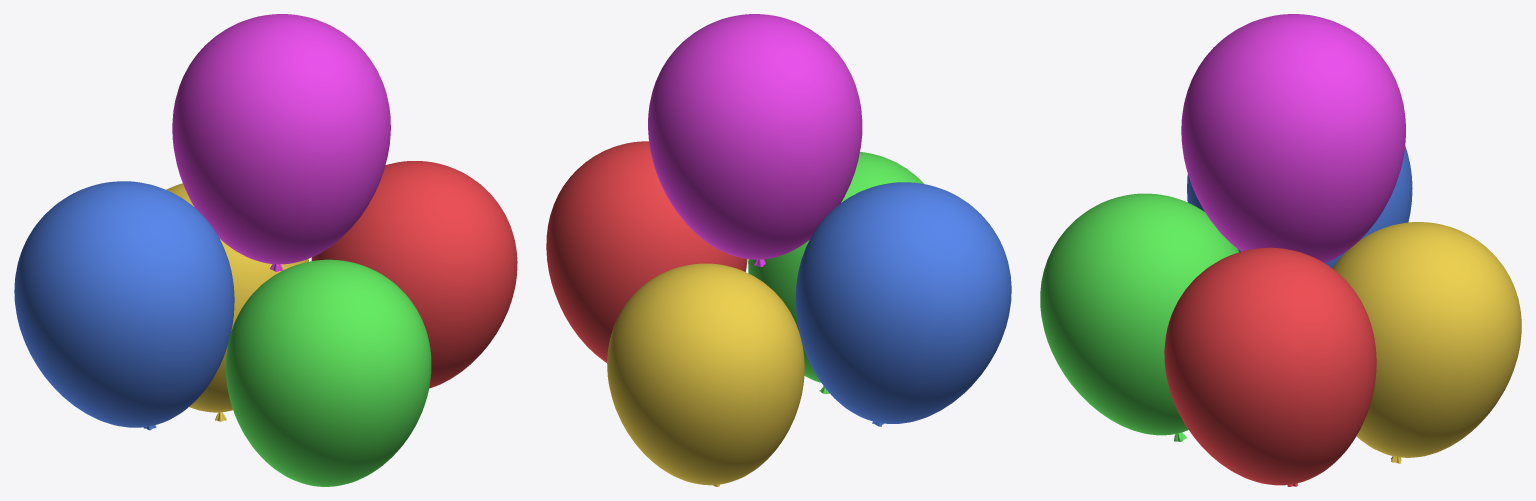
Rendered from balloon.fbx.
3 views of the same model, side by side, from view 1: azimuth 30°, elevation 25°; view 2: azimuth 150°, elevation 25°; view 3: azimuth 270°, elevation 25° (orthographic). The views are drawn at different scales.
Visible parts, largest first — view 1: Sphere.004, Sphere.002, Sphere.003, Sphere, Sphere.001; view 2: Sphere.004, Sphere.002, Sphere.001, Sphere, Sphere.003; view 3: Sphere.004, Sphere, Sphere.001, Sphere.003, Sphere.002.
Part boxes in pixels (x1,y1,x2,y2): Sphere.004: (172,14,390,271); Sphere.002: (14,181,234,430); Sphere.003: (226,259,431,486); Sphere: (311,161,517,388); Sphere.001: (166,183,308,421); Sphere.004: (648,14,862,266); Sphere.002: (795,182,1011,426); Sphere.001: (607,263,804,486); Sphere: (546,141,747,362); Sphere.003: (748,152,923,394); Sphere.004: (1181,14,1405,263); Sphere: (1164,247,1376,486); Sphere.001: (1332,222,1521,463); Sphere.003: (1040,193,1238,441); Sphere.002: (1187,146,1412,268).
Size of the model in its own units: 464 by 415 by 409.
